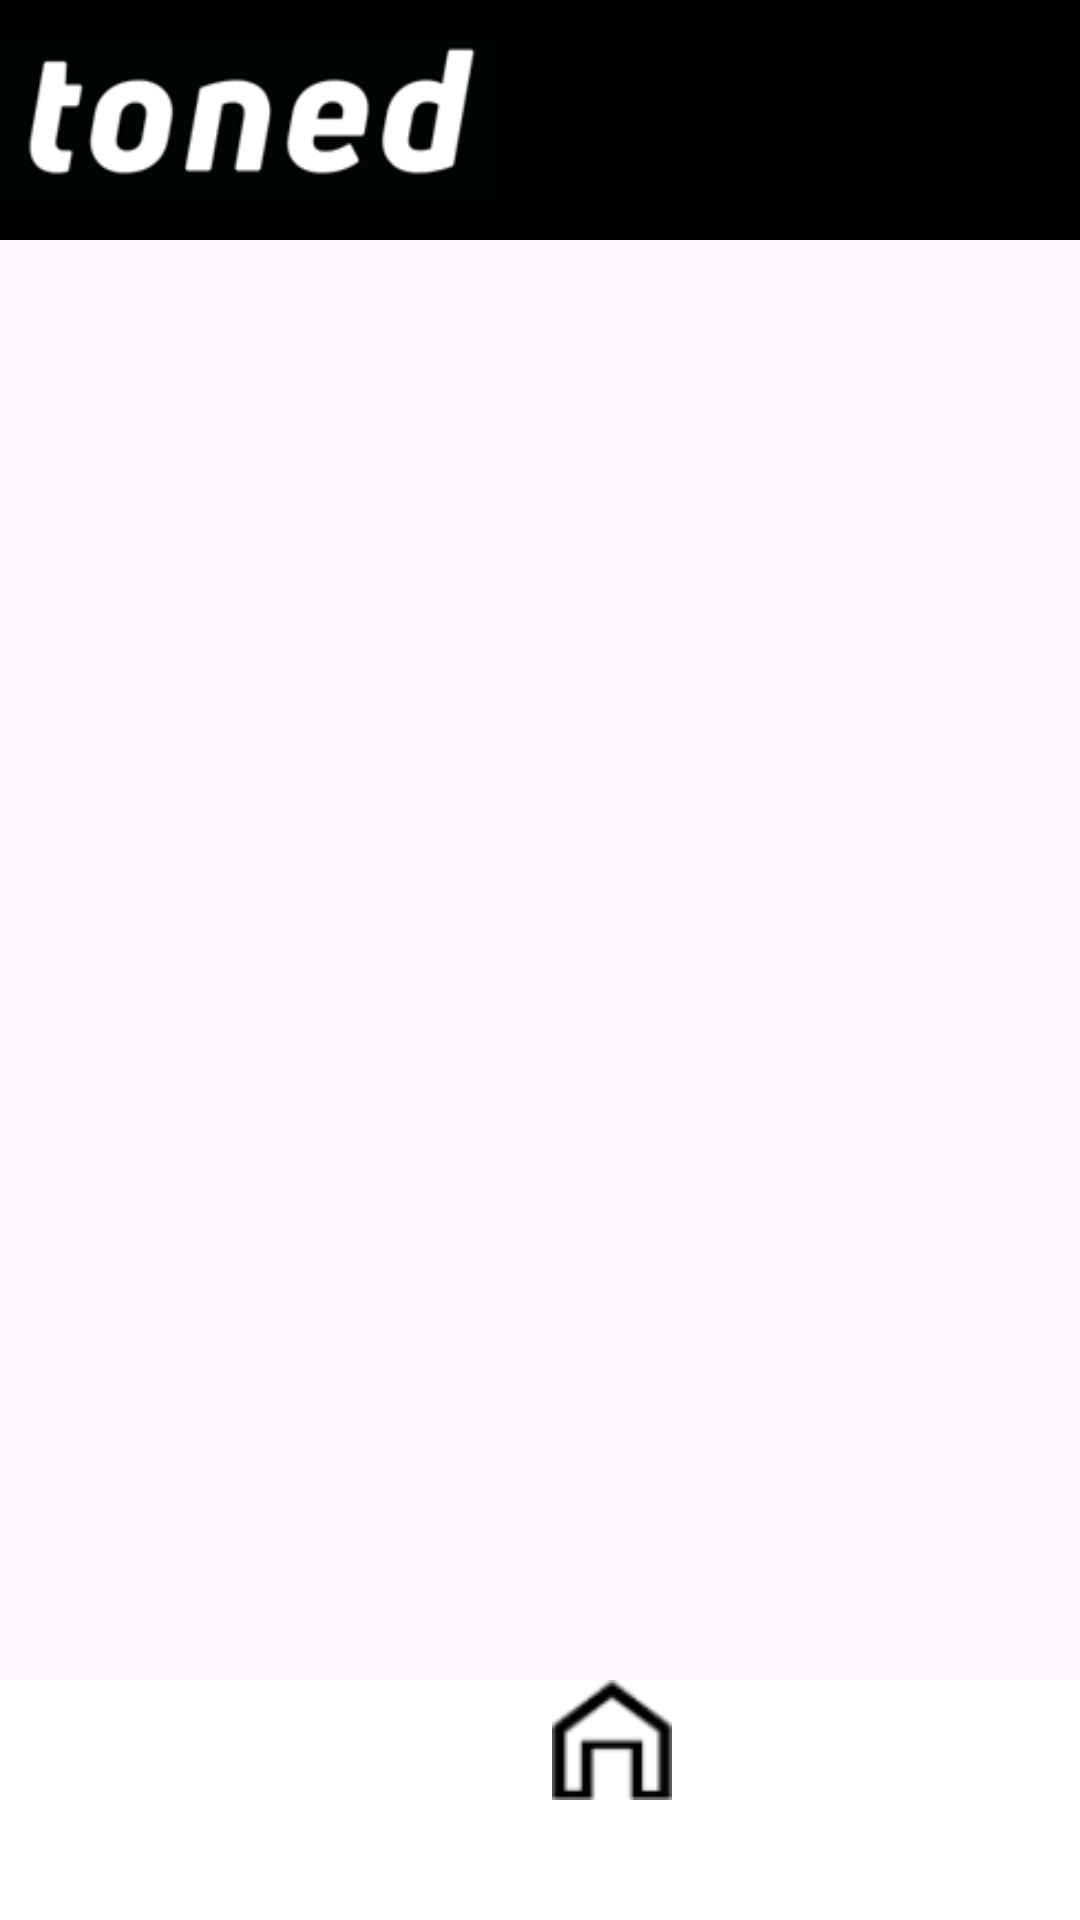

Icon bounding boxes for this 1080px×1920px phone screenshot, format (x1, y1, x2, y2):
homeicon: (552, 1680, 672, 1800)
